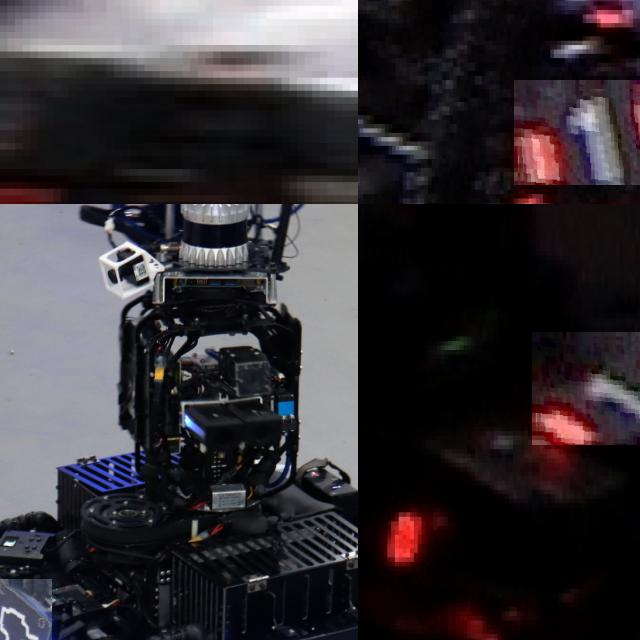Bs: (0, 579, 51, 640)
R1: (514, 80, 640, 185), (532, 332, 640, 444), (358, 476, 432, 575)
